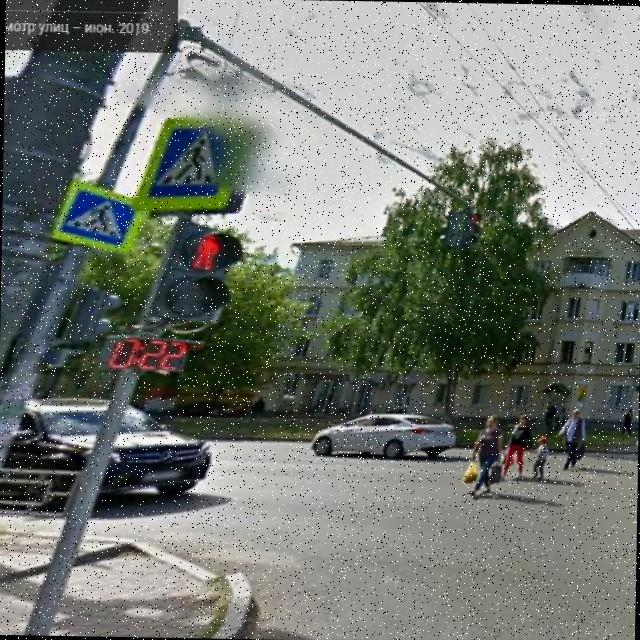Przejscie dla pieszych: (123, 105, 271, 223), (46, 172, 152, 258)
